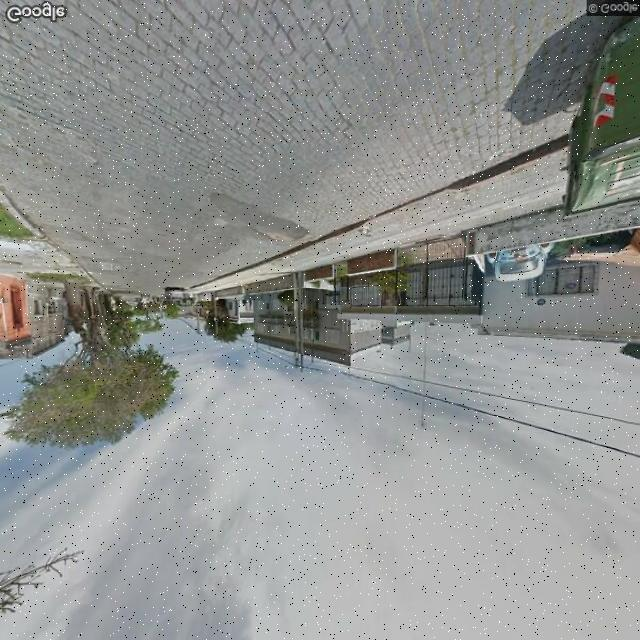garbage container: (550, 12, 640, 236)
